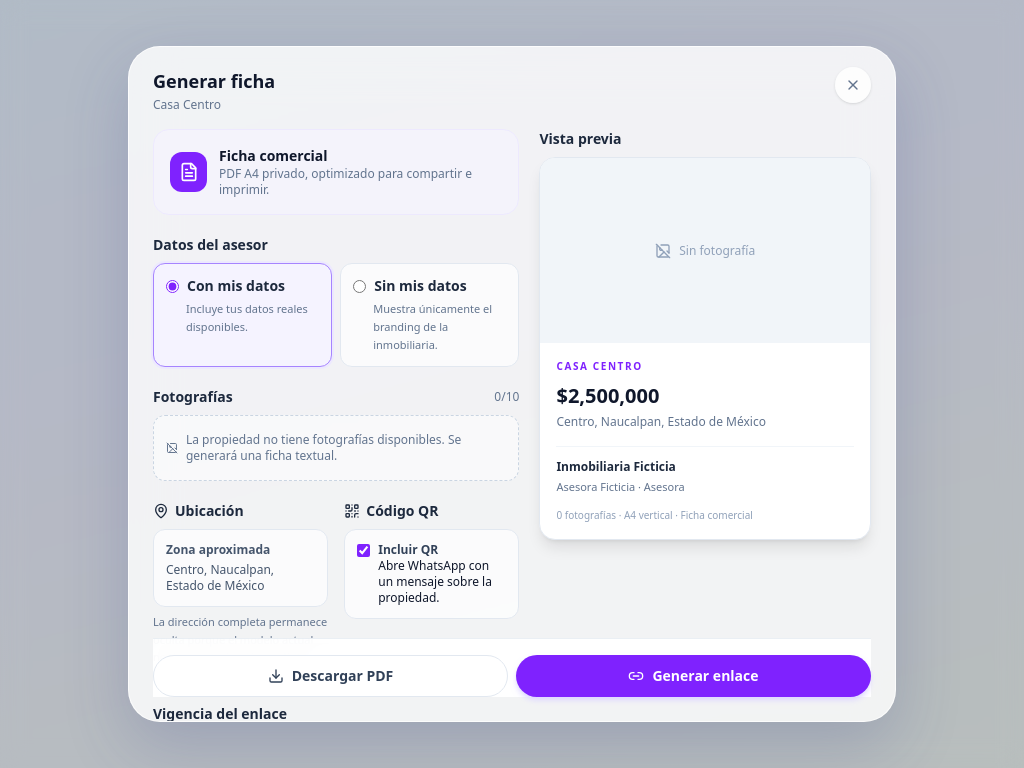
Test case: modal de ficha técnica comercial › omite QR sin destino válido y muestra errores seguros
This screenshot has width=1024, height=768.
Click the radio button labelled "Sin mis datos": click(360, 286) [353, 280, 366, 293]
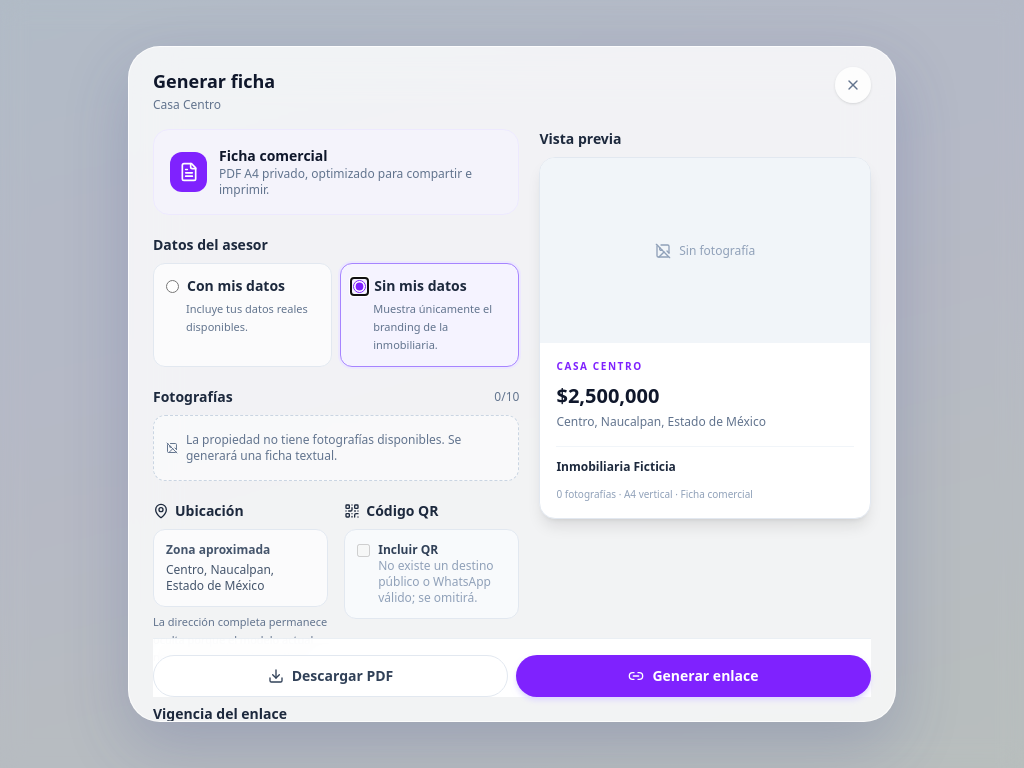
Expected: the checkbox named "Incluir código QR" is disabled, [357, 544, 370, 557]
Click the button "Generar enlace": click(694, 676) [516, 655, 871, 697]
(page scrolled)
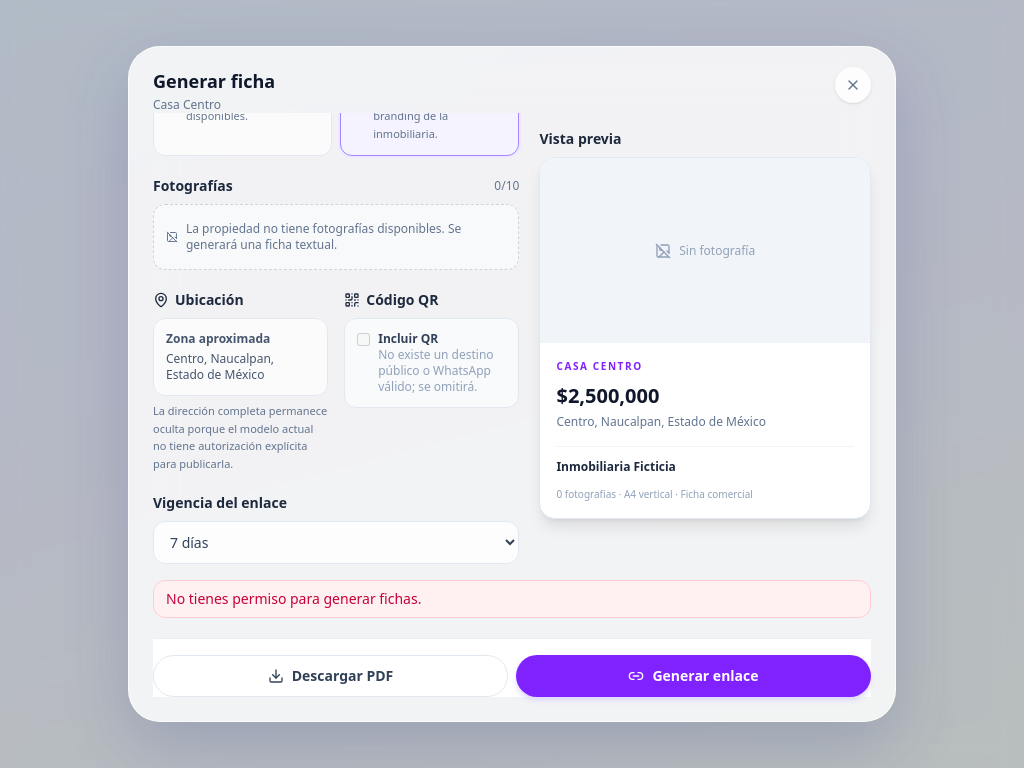
Expected: the message shows "No tienes permiso", [166, 589, 421, 608]
